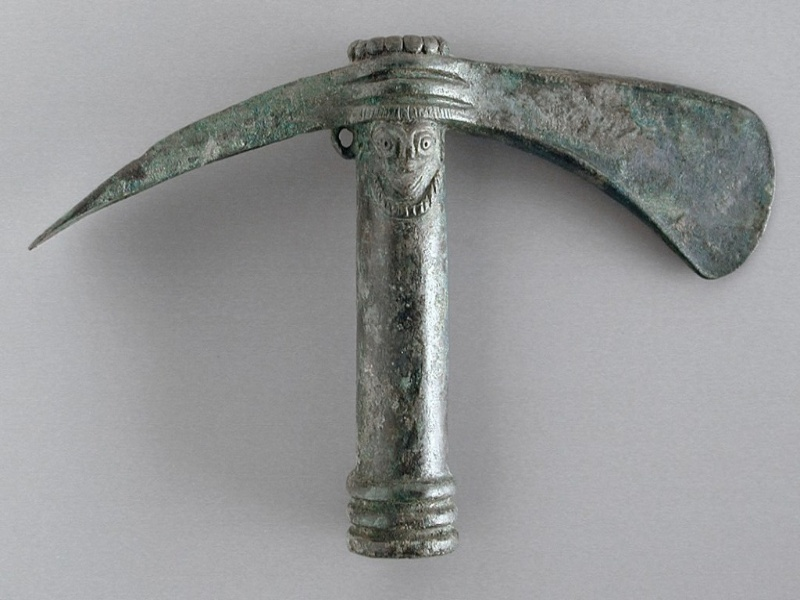axe: (16, 27, 787, 302)
